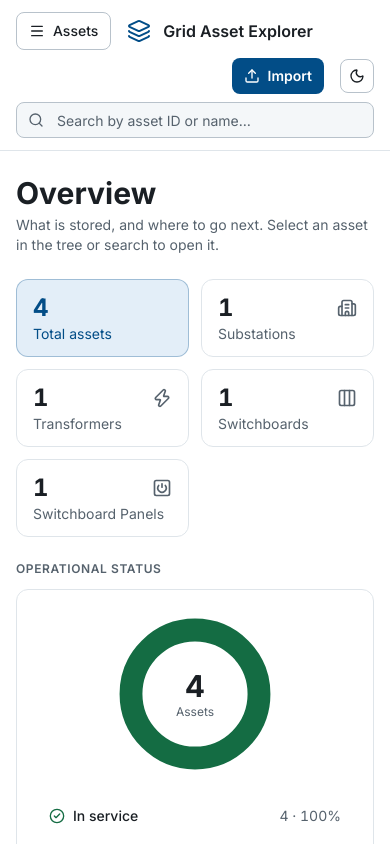
Test case: AppShell navigation › on small screens the rail opens as a drawer and closes when you navigate
The image size is (390, 844).
Click the button "Assets". click: [64, 31]
box: [16, 12, 111, 50]
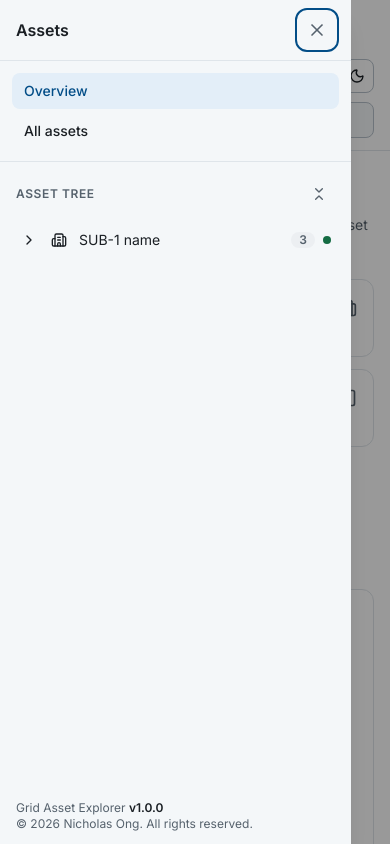
Now the list named "Asset tree" is shown, box [8, 218, 343, 262]
Click the list item "SUB-1 name 3". click: [113, 249]
box: [8, 222, 343, 258]
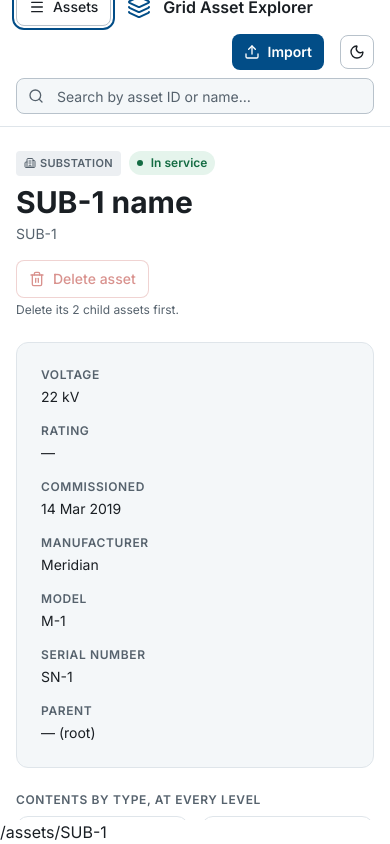
Now the text with test id "location" reads "/assets/SUB-1", box [0, 822, 107, 842]
